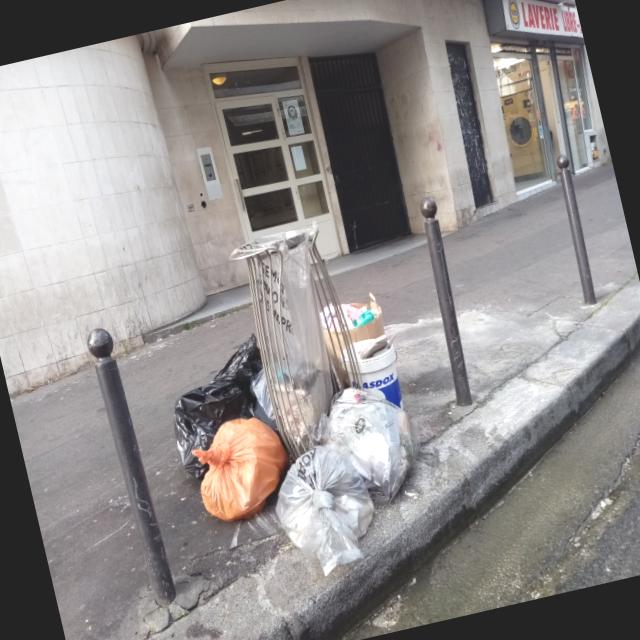garbage: (126, 170, 462, 586)
